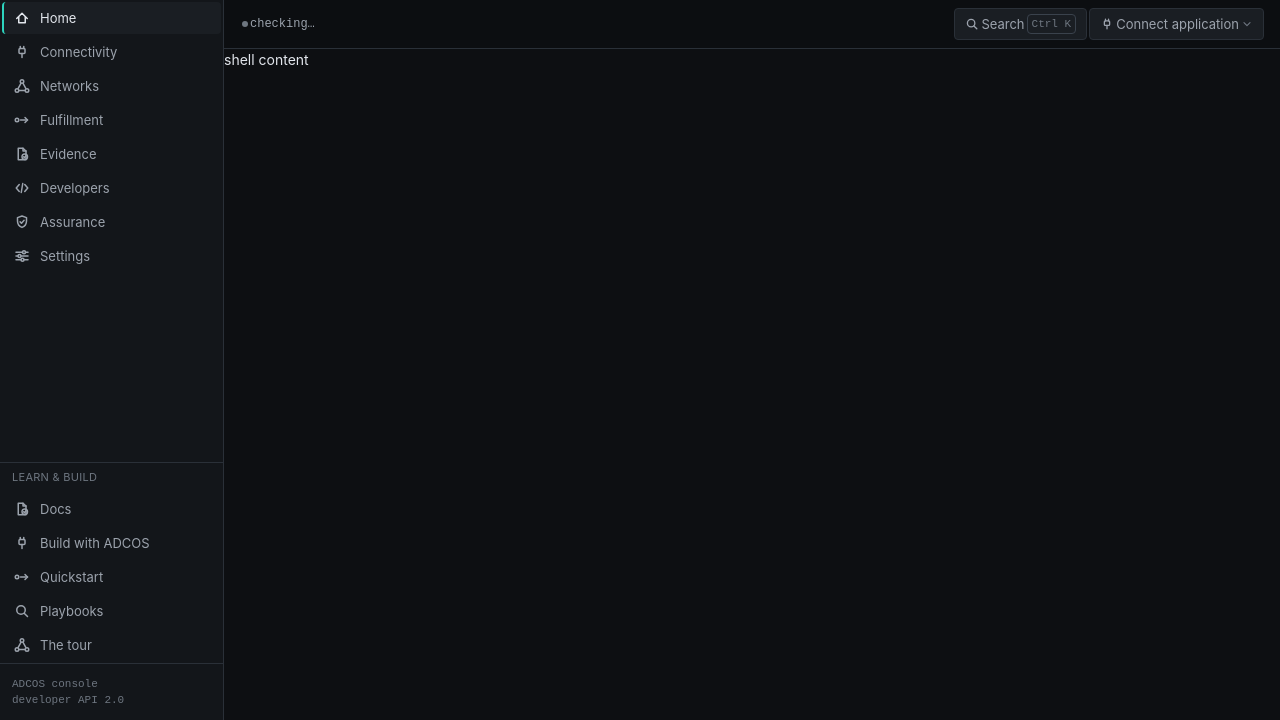
CommandPalette › shows the No matches line when nothing matches
Press k
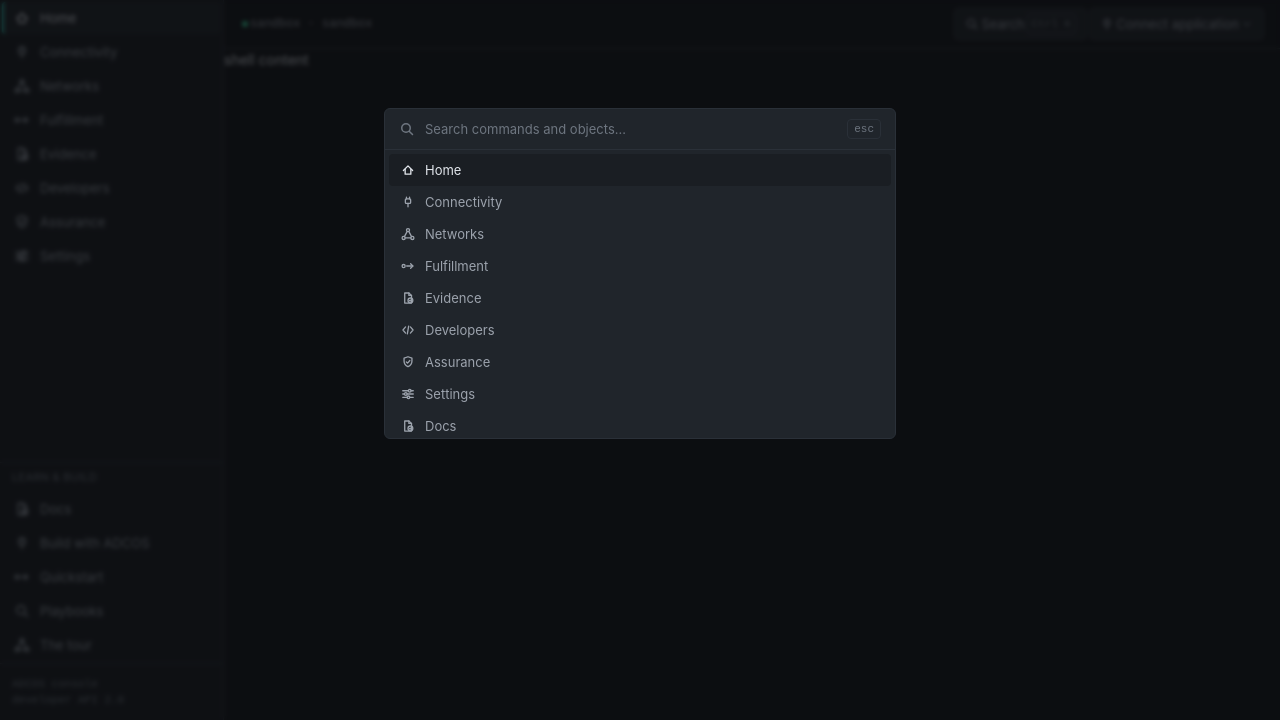
Type "zzzz" into the dropdown labelled "Search commands and objects" at (631,129), box [425,109,837,149]
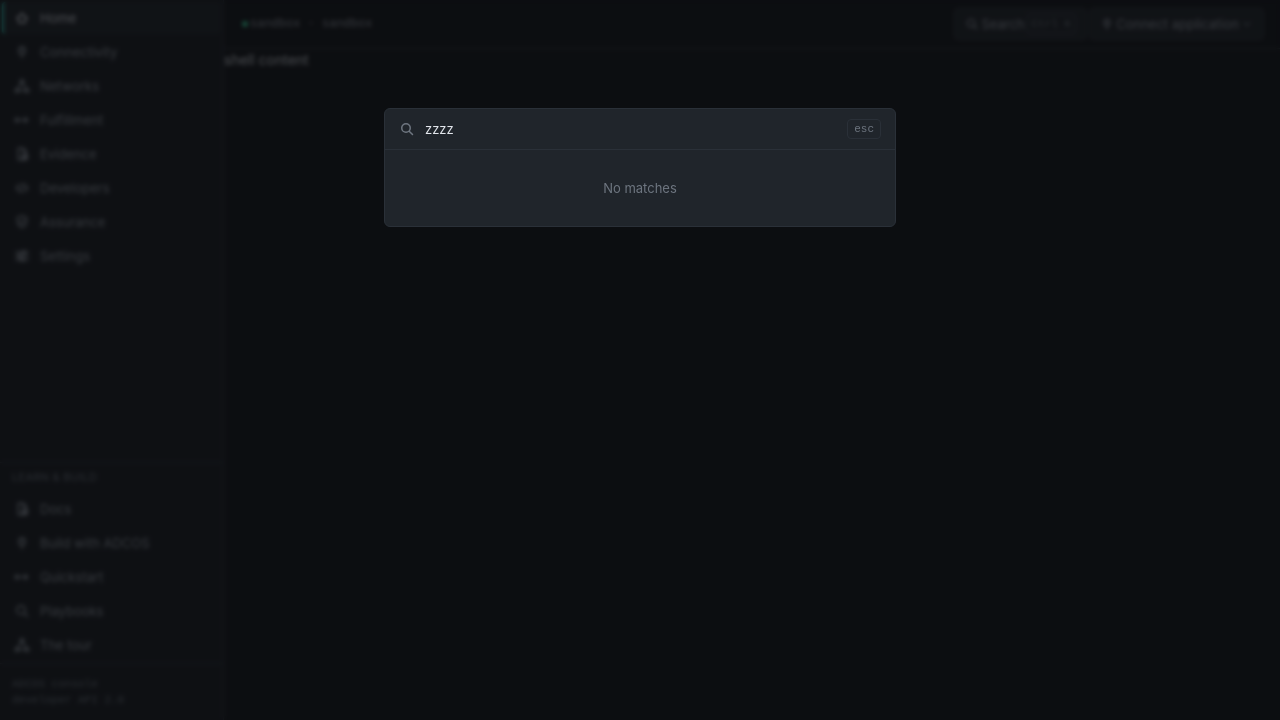
Expected: the list item "No matches" is shown, [603,180,677,196]
Expected: the option is gone
